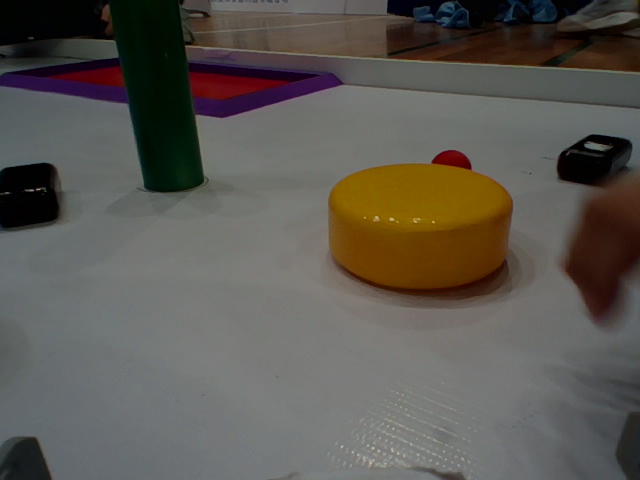black: (1, 153, 80, 244), (551, 119, 634, 189)
kuang: (1, 50, 366, 124)
red: (429, 143, 484, 180)
yellow: (317, 160, 531, 300)
zhuzi: (101, 1, 214, 192)
